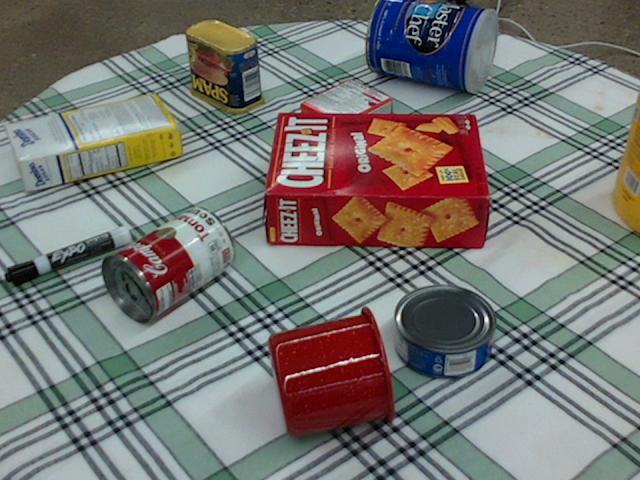cracker_box: (263, 110, 488, 245)
gelatin_box: (298, 76, 391, 143)
large_marker: (2, 225, 129, 286)
master_chef_can: (365, 0, 496, 91)
mug: (265, 302, 397, 439)
mustard_bottle: (612, 83, 639, 232)
potted_meat_can: (185, 20, 263, 112)
sugar_box: (3, 94, 181, 190)
tomato_soup_can: (100, 204, 234, 322)
tuna_fish_can: (394, 284, 497, 378)
